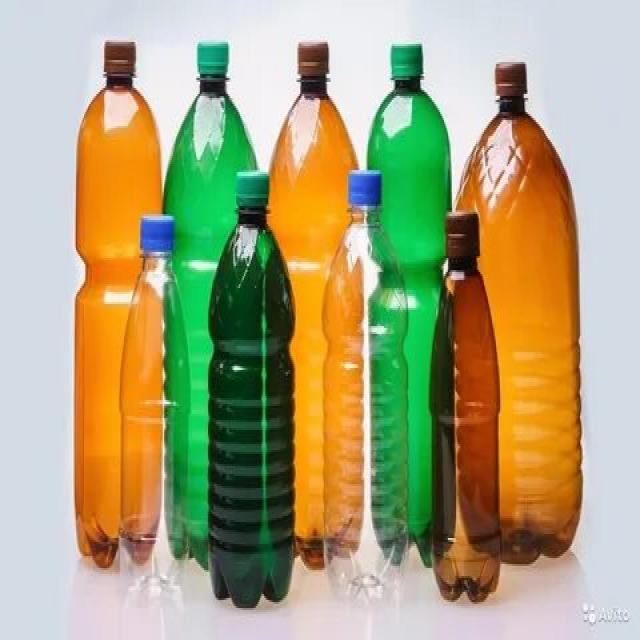brown: (432, 262, 499, 605)
